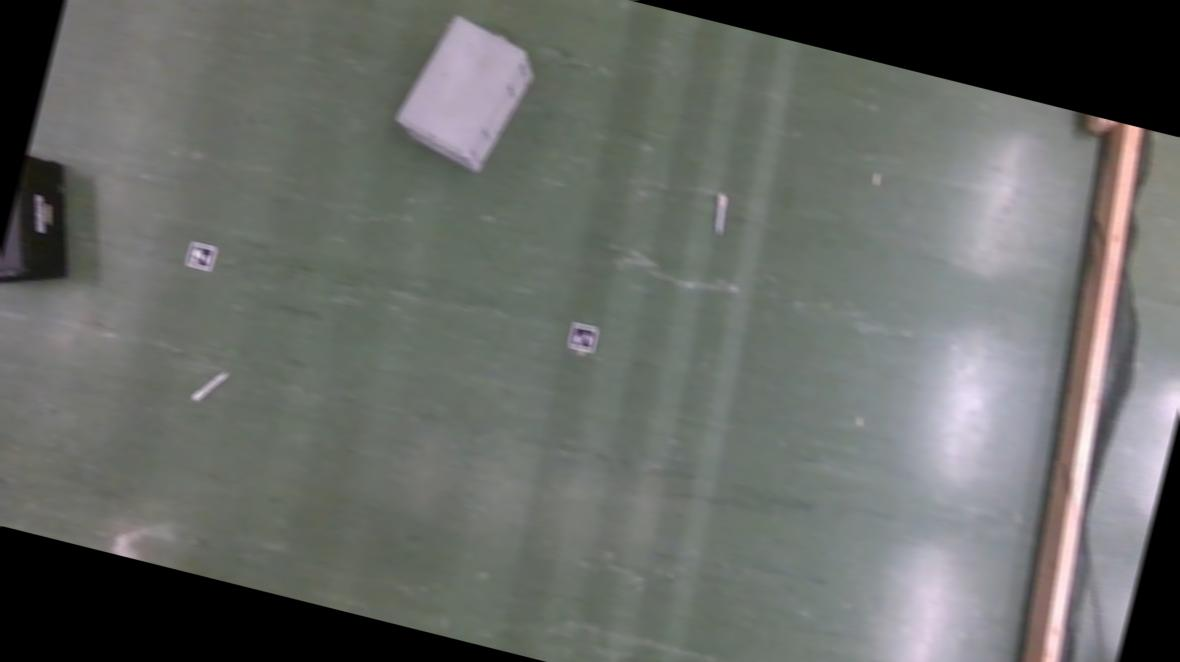probes: (192, 366, 226, 407), (709, 195, 732, 238)
rako: (385, 8, 543, 182), (0, 152, 92, 301)
